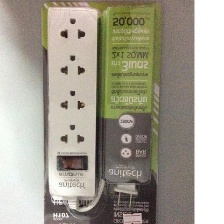book: (40, 0, 165, 224)
three_eye_plug: (46, 4, 102, 206)
